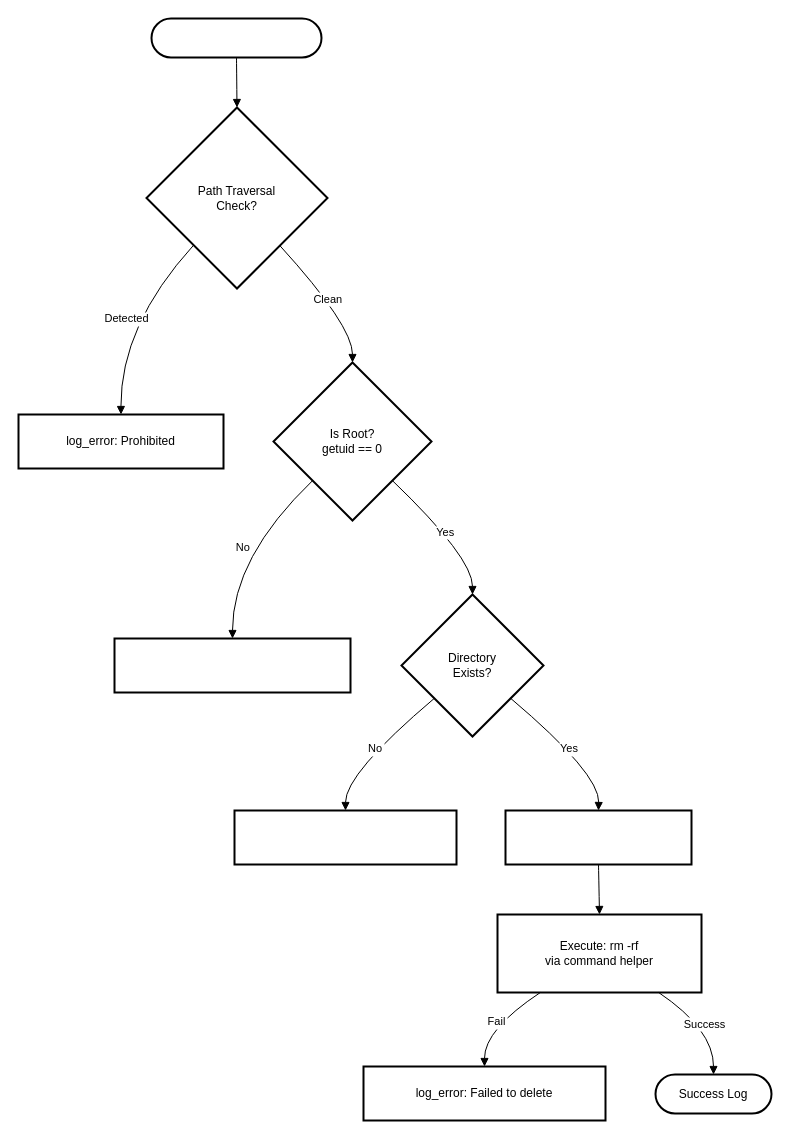
Some shapes in this 789 by 1138 pixel diagram are drawn without their labels. Each missing label, with the centre of its shape:
"Check --force flag" belongs at pixel 598 837.
"log_error: Not Installed" belongs at pixel 345 837.
"log_error: Root Required" belongs at pixel 232 665.
"ndm remove version" belongs at pixel 236 37.
